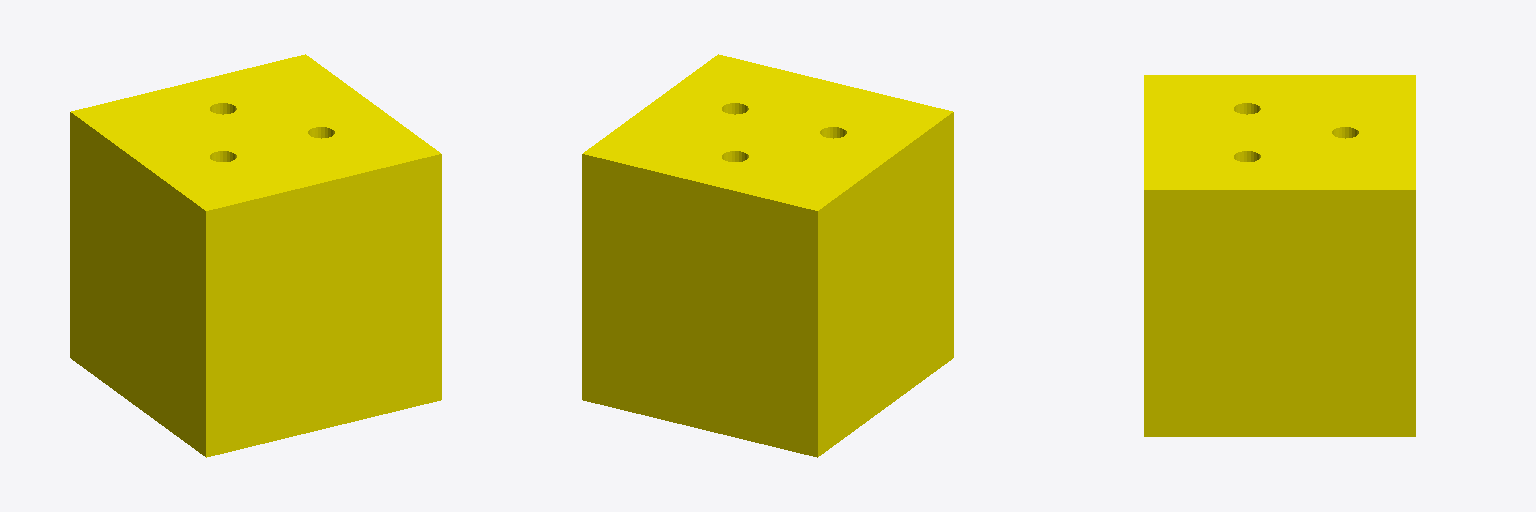
3 views of the same model, side by side, from view 1: azimuth 30°, elevation 25°; view 2: azimuth 150°, elevation 25°; view 3: azimuth 270°, elevation 25° (orthographic).
Visible parts, largest first — view 1: gripping_item_v1; view 2: gripping_item_v1; view 3: gripping_item_v1.
Boxes of the visible parts, x1,y1,x2,y2 form: gripping_item_v1: [70, 54, 441, 457]; gripping_item_v1: [582, 54, 953, 457]; gripping_item_v1: [1144, 75, 1415, 436].
Size of the model in its own units: 0.6 by 0.6 by 0.6.
1 materials, 1 textured.